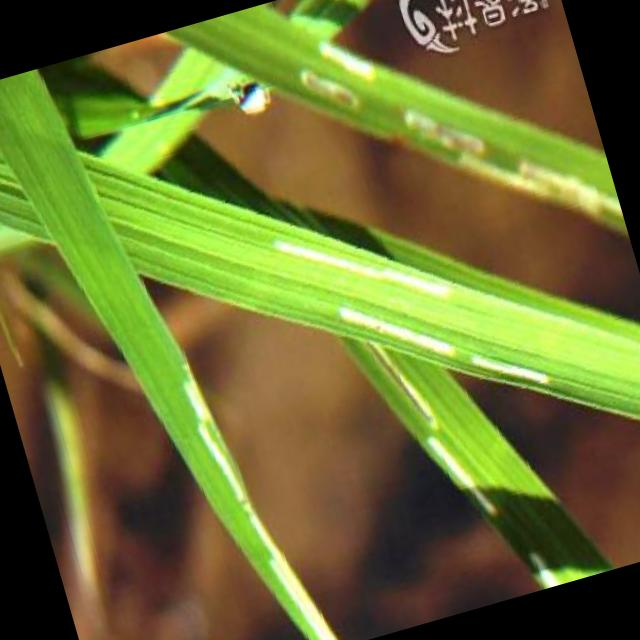rice-bug: (226, 72, 278, 120)
